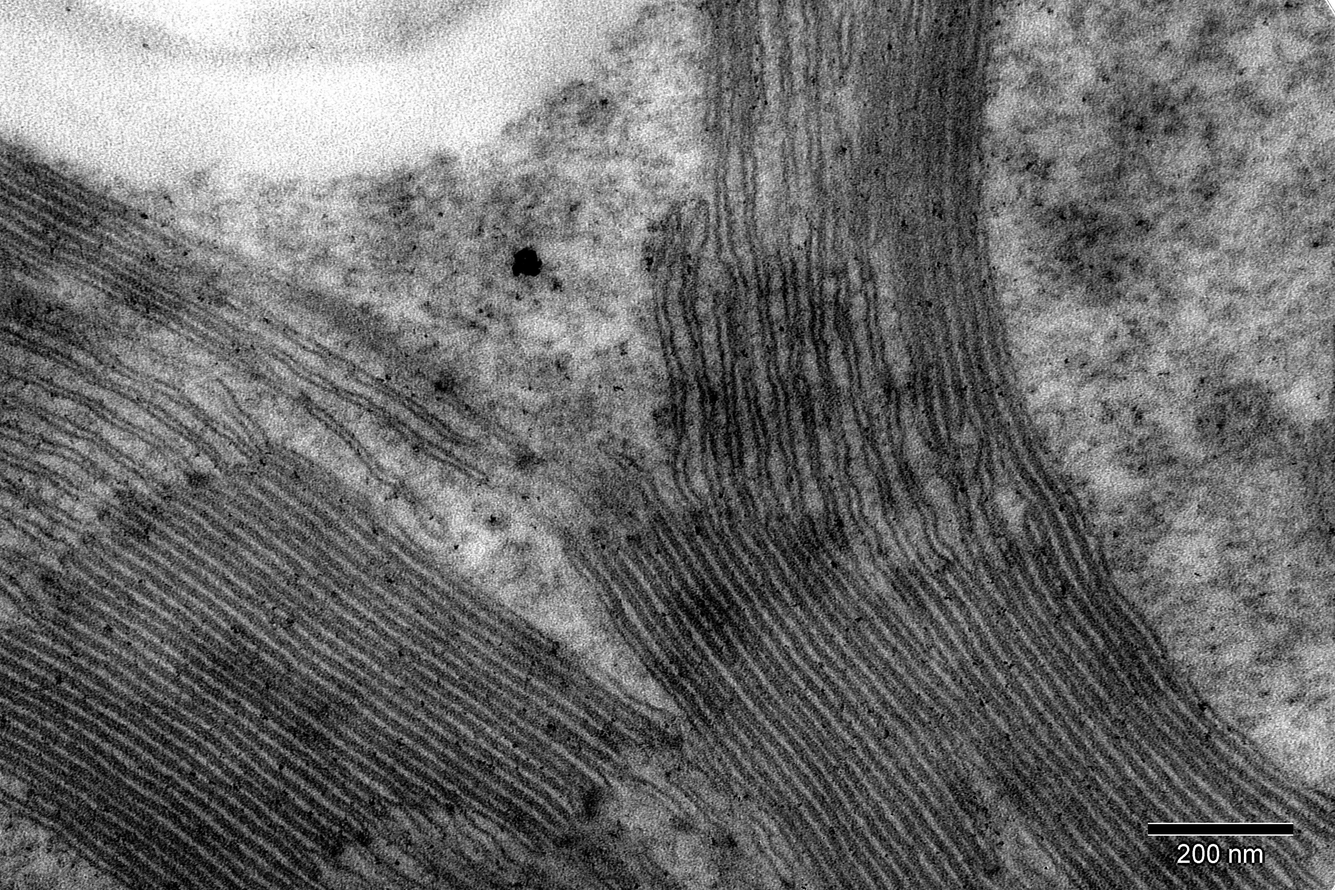granum: (561, 487, 1335, 890), (0, 438, 683, 890), (845, 0, 1079, 505), (0, 131, 271, 386), (690, 0, 766, 136)
